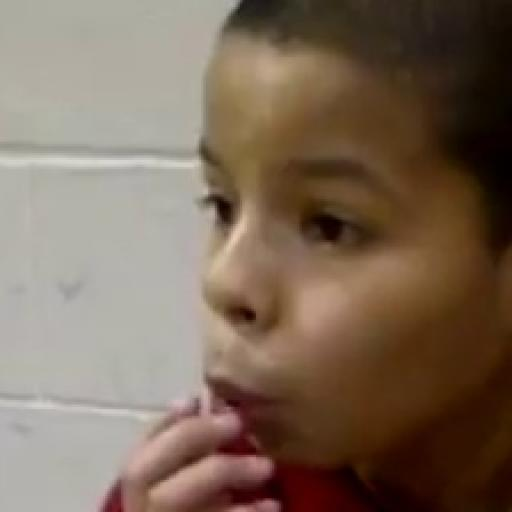Autism: (160, 16, 512, 498)
